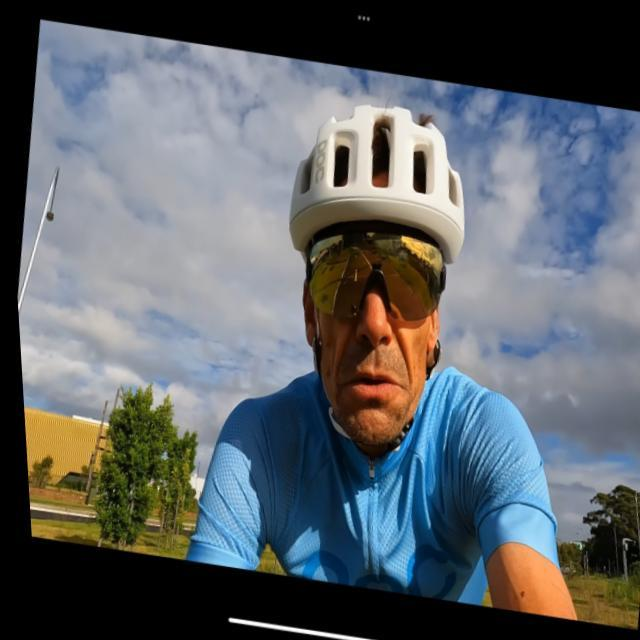Helmet: (285, 101, 470, 448)
